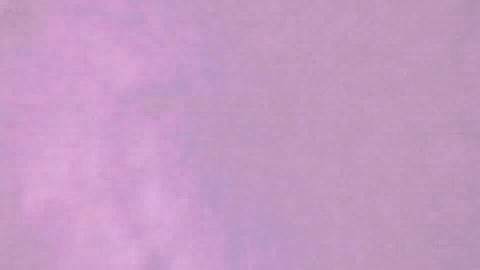tomato: (136, 145, 385, 268)
